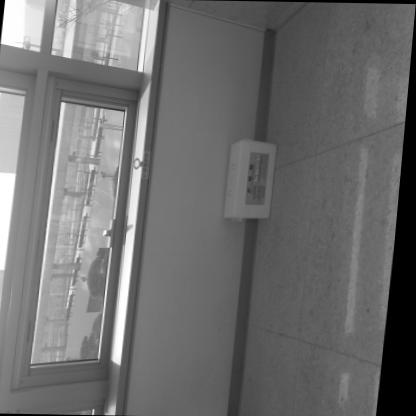DDL: (224, 140, 280, 219)
